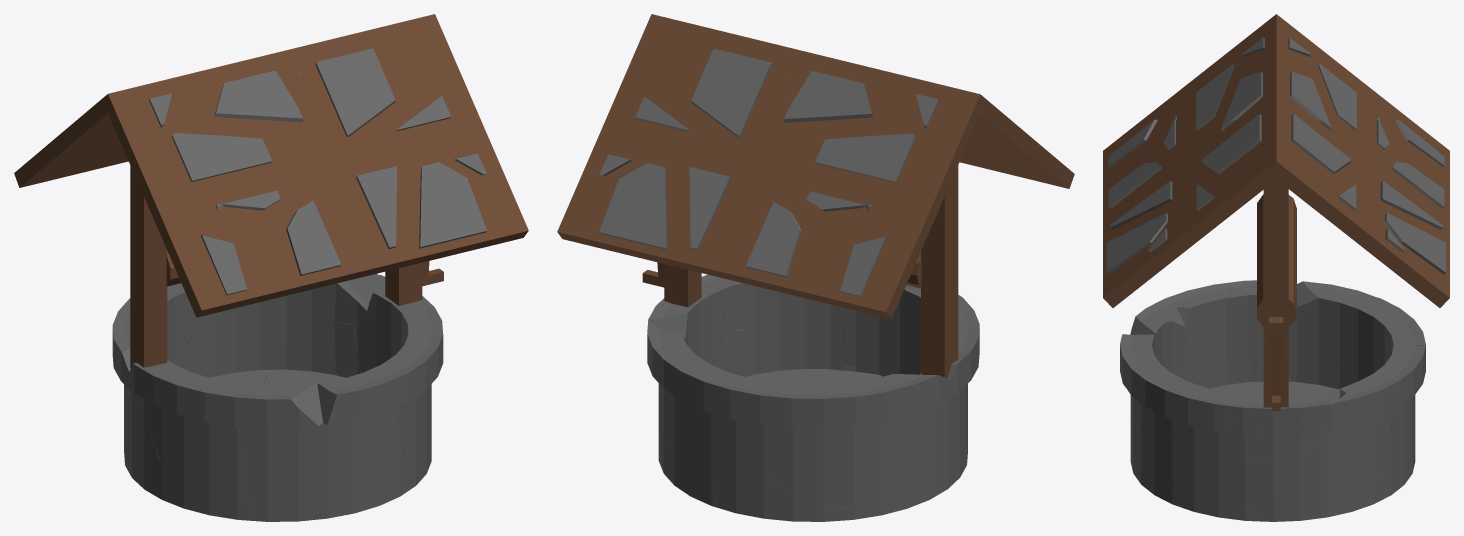
The model's file is well.fbx.
3 renders of one model, left to right at view 1: azimuth 30°, elevation 25°; view 2: azimuth 150°, elevation 25°; view 3: azimuth 270°, elevation 25°, orthographic. The views are drawn at different scales.
Visible parts, largest first — view 1: Cube.001; view 2: Cube.001; view 3: Cube.001.
Boxes of the visible parts, x1,y1,x2,y2 form: Cube.001: (14,14,528,521); Cube.001: (557,14,1074,521); Cube.001: (1103,14,1449,521).
Bounding box in the file's own units: 250 × 288 × 244.
Materials: 3 (3 with a texture image).
